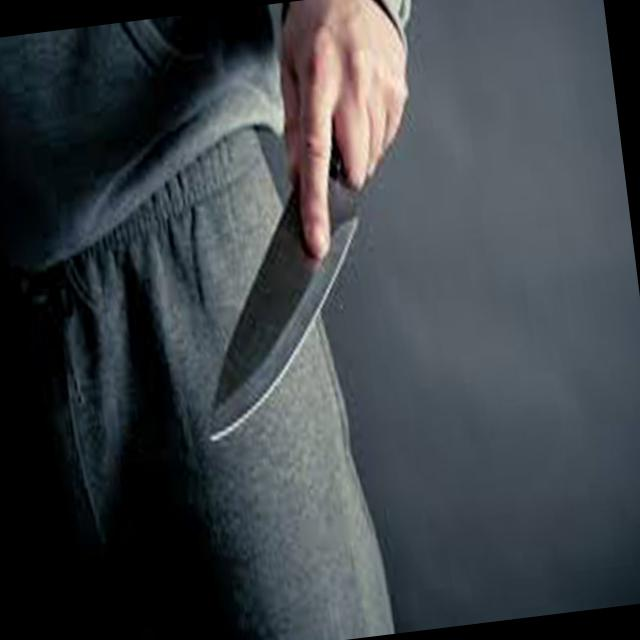knife: (156, 49, 428, 453)
